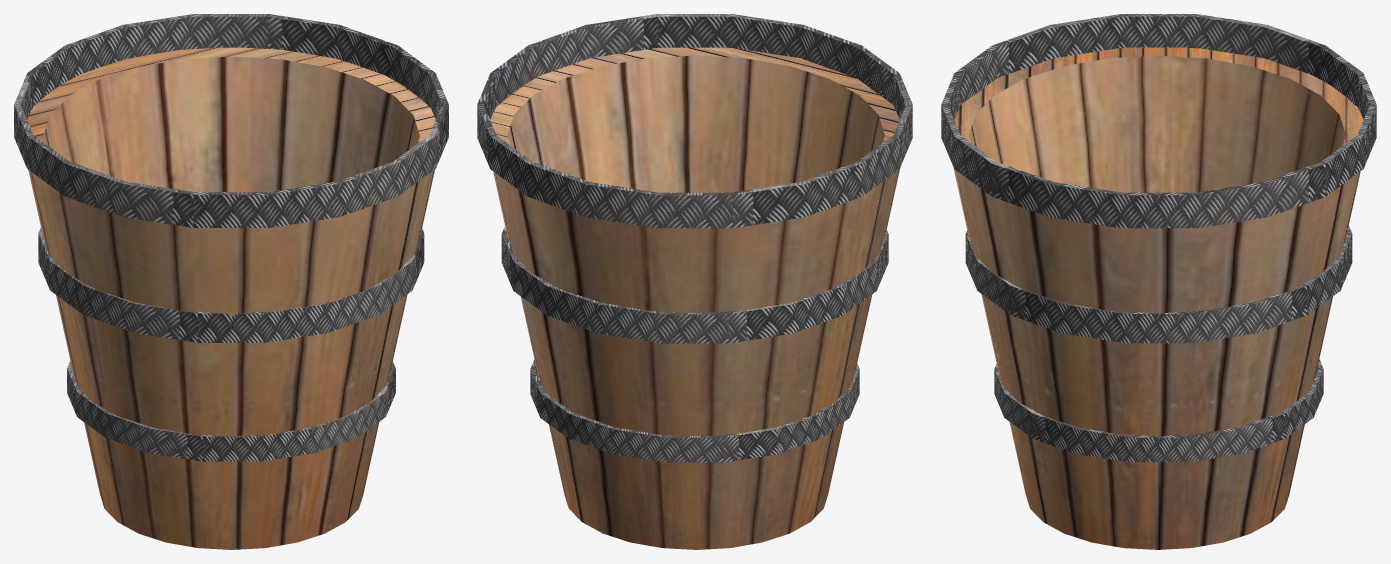
The model's file is BaldeProyecto.fbx.
3 views of the same model, side by side, from view 1: azimuth 30°, elevation 25°; view 2: azimuth 150°, elevation 25°; view 3: azimuth 270°, elevation 25° (orthographic).
Parts seen in each view (by area): view 1: Cone001, Tube001, Tube003, Tube002; view 2: Cone001, Tube001, Tube003, Tube002; view 3: Cone001, Tube001, Tube003, Tube002.
Part boxes in pixels (x1,y1,x2,y2): Cone001: (27,47,435,549); Tube001: (14,14,448,227); Tube003: (38,227,424,342); Tube002: (67,361,395,461); Cone001: (490,47,900,549); Tube001: (477,14,912,228); Tube003: (501,226,888,343); Tube002: (530,359,859,462); Cone001: (953,47,1363,549); Tube001: (941,14,1376,228); Tube003: (965,225,1352,343); Tube002: (994,359,1323,462).
Size of the model in its own units: 32.5 by 32.59 by 33.
